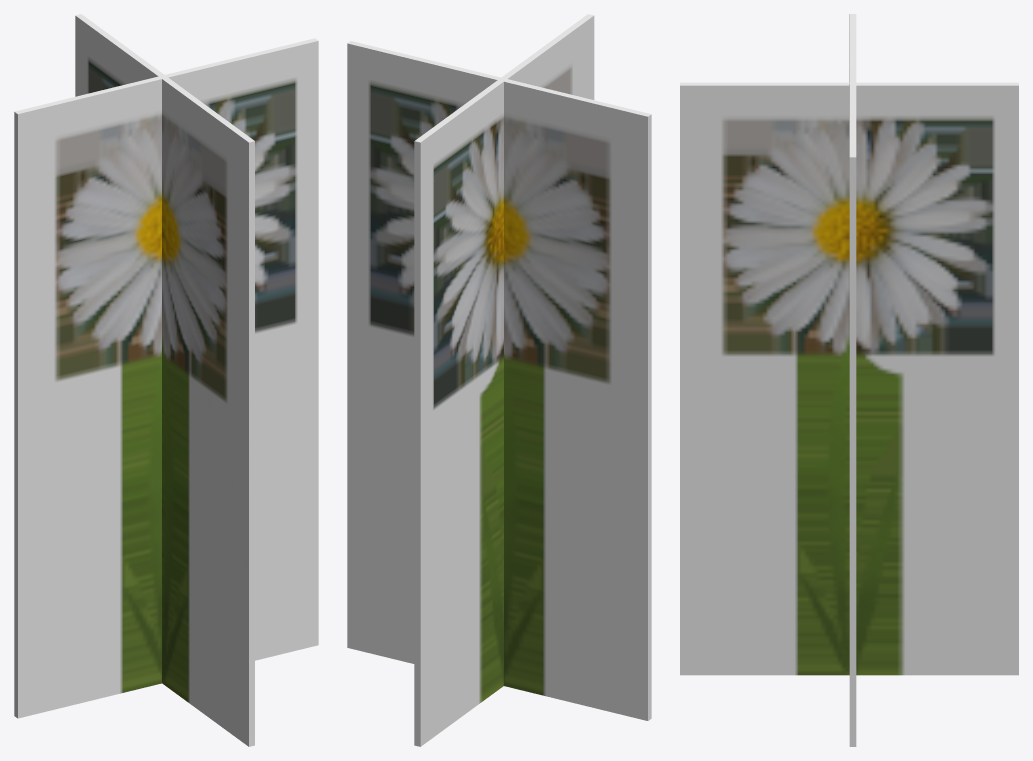
File: Flower3.fbx
3 renders of one model, left to right at view 1: azimuth 30°, elevation 25°; view 2: azimuth 150°, elevation 25°; view 3: azimuth 270°, elevation 25°, orthographic. The views are drawn at different scales.
Parts seen in each view (by area): view 1: n_grass_diff_0_22.002; view 2: n_grass_diff_0_22.002; view 3: n_grass_diff_0_22.002.
Boxes of the visible parts, x1=… form: n_grass_diff_0_22.002: x1=14, y1=14, x2=318, y2=746; n_grass_diff_0_22.002: x1=347, y1=14, x2=651, y2=746; n_grass_diff_0_22.002: x1=680, y1=14, x2=1018, y2=746.
Bounding box in the file's own units: 49.1 × 94.27 × 49.1.
